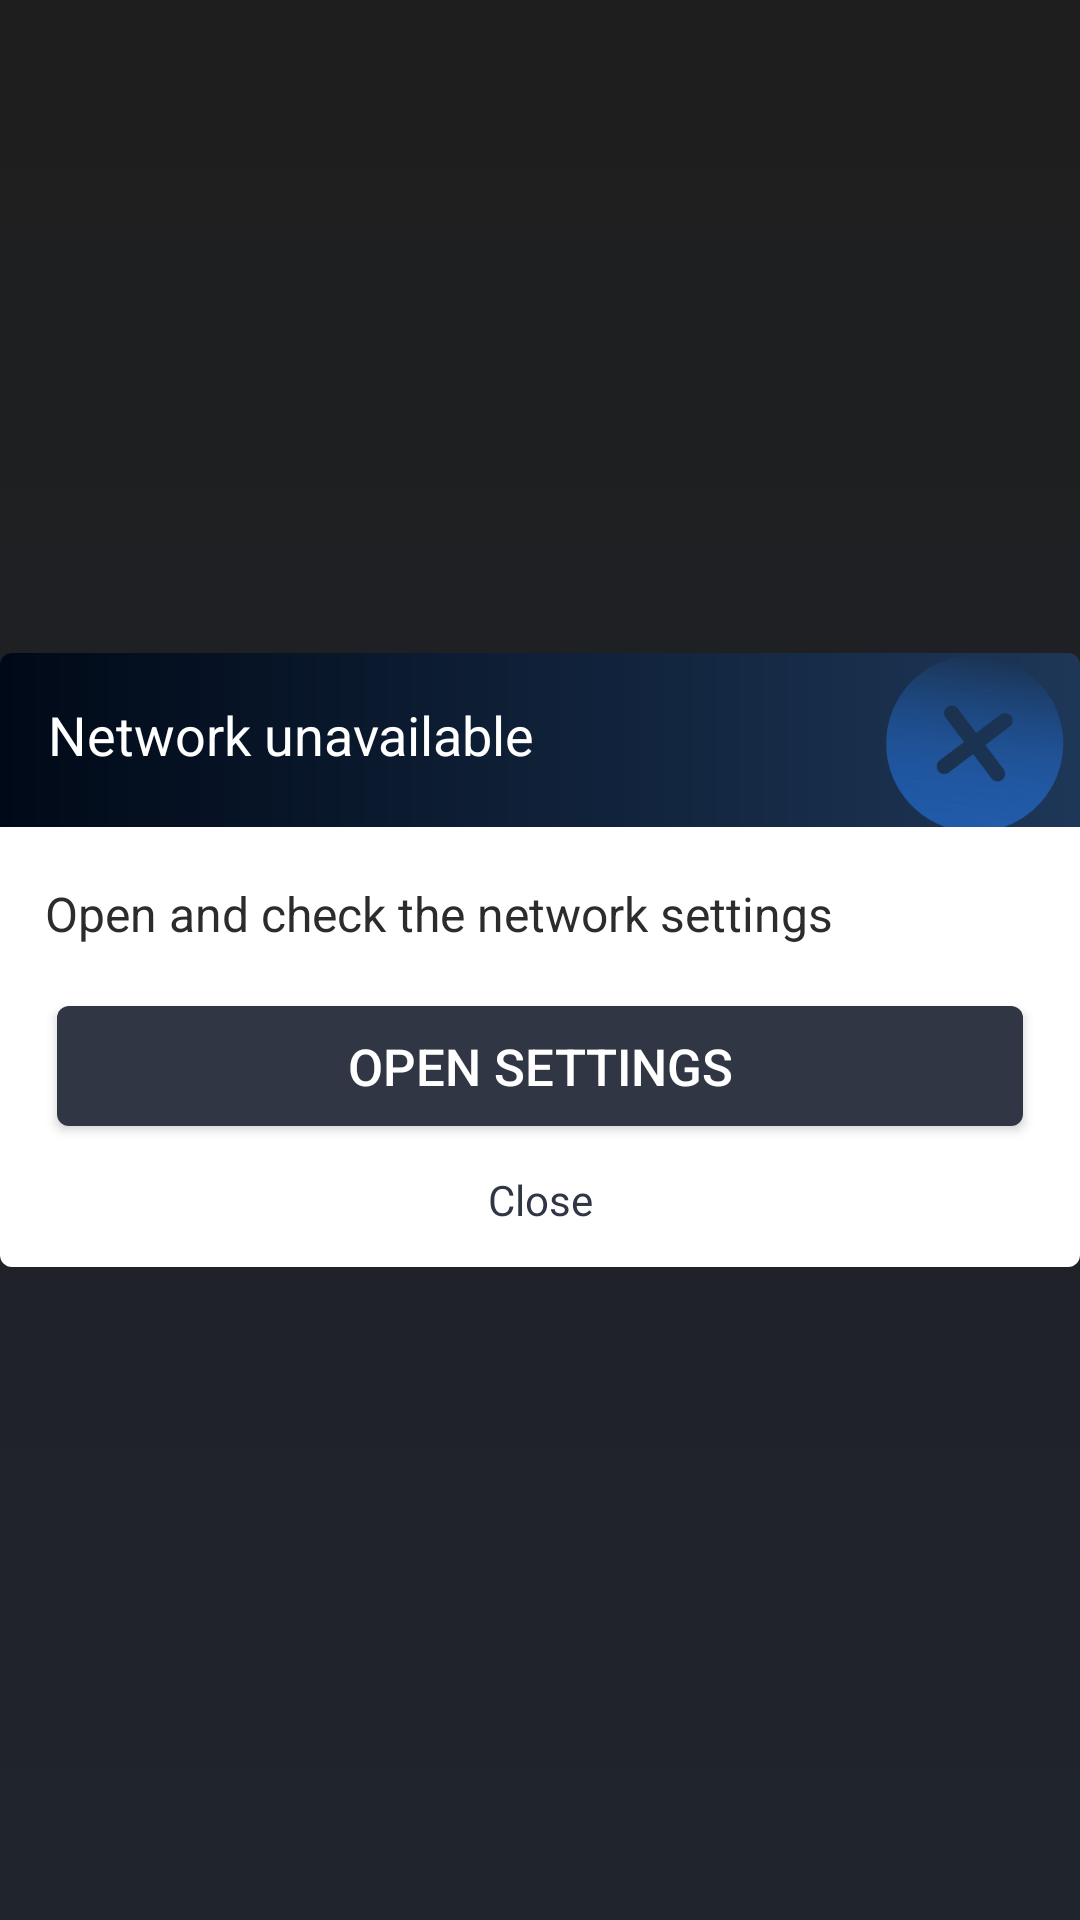

Screen size 1080×1920. Icon name, then its center in pixels as [x,y]:
failed: [975,743]
